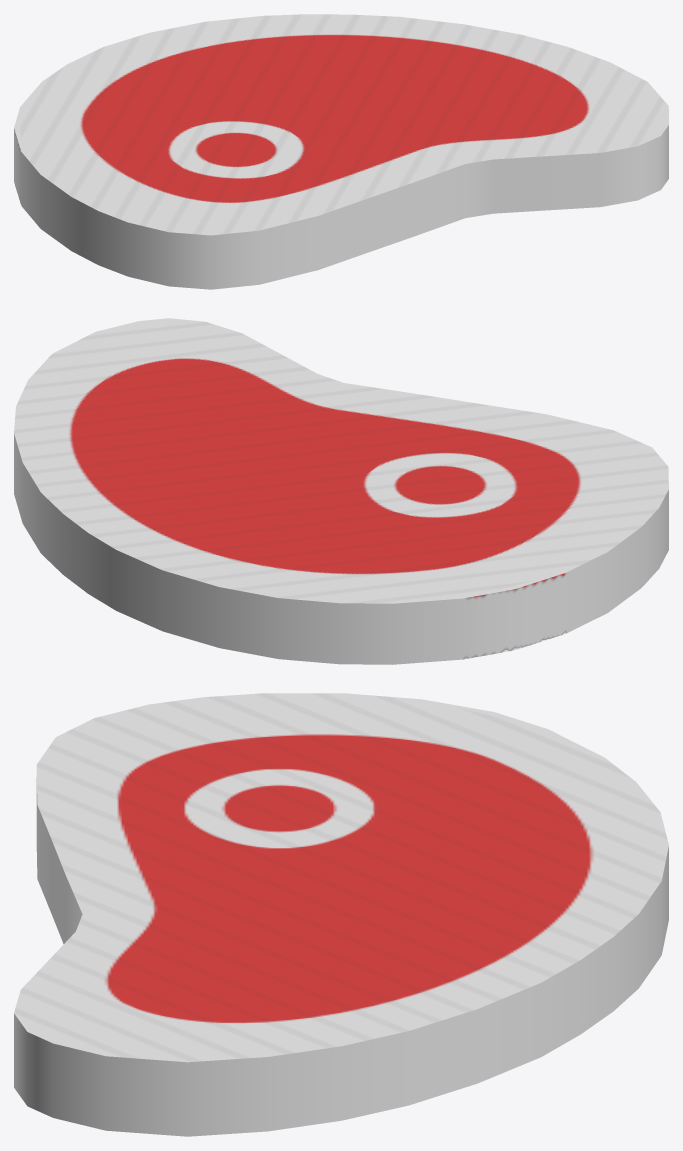
Rendered from meat.fbx.
The picture shows the model from 3 angles, top to bottom: view 1: azimuth 30°, elevation 25°; view 2: azimuth 150°, elevation 25°; view 3: azimuth 270°, elevation 25°; orthographic projection. The views are drawn at different scales.
Parts seen in each view (by area): view 1: #meat; view 2: #meat; view 3: #meat.
Boxes of the visible parts, <box> form: #meat: <box>14,14,668,289</box>; #meat: <box>14,318,668,664</box>; #meat: <box>14,693,668,1136</box>.
Bounding box in the file's own units: 319 × 30 × 239.
Materials: 1 (1 with a texture image).
